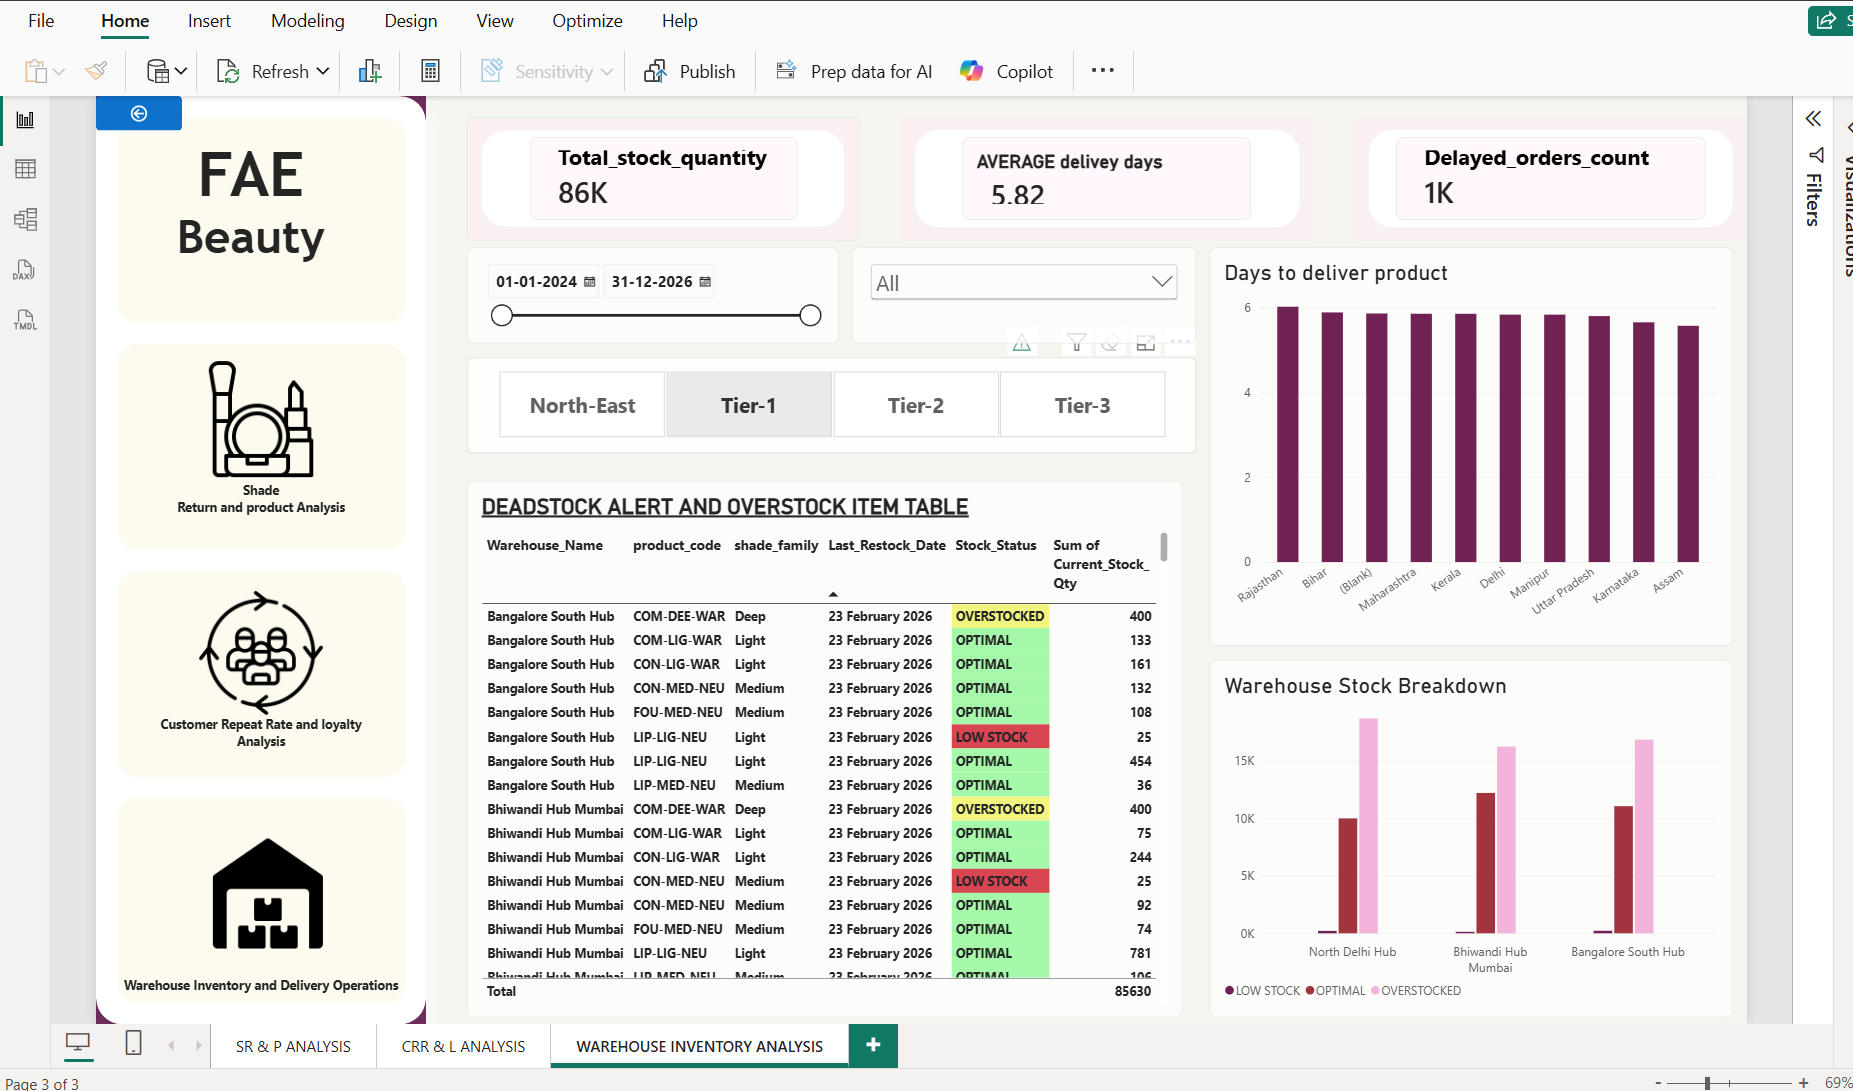

The dashboard page shown, as its layout file describes it:
{"tool":"powerbi","page":{"name":"WAREHOUSE INVENTORY ANALYSIS","canvas":[1920,1080],"ordinal":2},"visuals":[{"type":"group","id":"g1","title":"Group 1","box":[0,0,384,1080],"z":0,"group":"g2"},{"type":"shape","box":[0,0,384,1080],"z":0,"group":"g1"},{"type":"shape","box":[432,24,456,144],"z":0},{"type":"shape","box":[24,24,336,240],"z":1000,"group":"g1"},{"type":"shape","box":[936,24,480,144],"z":1000},{"type":"textbox","box":[48,48,264,192],"z":1000,"group":"g2"},{"type":"shape","box":[1464,24,456,144],"z":2000},{"type":"shape","box":[24,288,336,240],"z":2000,"group":"g1"},{"type":"textbox","box":[48,448,288,48],"z":2000,"group":"g2"},{"type":"group","id":"g2","title":"Group 2","box":[0,0,384,1080],"z":3000},{"type":"shape","box":[24,552,336,240],"z":3000,"group":"g1"},{"type":"textbox","box":[48,720,288,48],"z":3000,"group":"g2"},{"type":"cardVisual","fields":{"Data":["Measure.Total_stock_quantity"]},"box":[504,48,312,96],"z":4000},{"type":"shape","box":[24,816,336,240],"z":4000,"group":"g1"},{"type":"textbox","box":[16,1024,352,32],"z":4000,"group":"g2"},{"type":"cardVisual","title":"AVERAGE delivey days","fields":{"Data":["Avg(fact_sales-order_process.delivery_days_taken)"]},"box":[1008,48,336,96],"z":5000},{"type":"cardVisual","fields":{"Data":["Measure.Delayed_orders_count"]},"box":[1512,48,360,96],"z":6000},{"type":"actionButton","box":[48,560,288,208],"z":7000},{"type":"actionButton","box":[32,288,336,224],"z":8000},{"type":"slicer","fields":{"Values":["dim_date.Date"]},"box":[432,176,432,112],"z":9000},{"type":"clusteredColumnChart","title":"Warehouse Stock Breakdown","fields":{"Category":["dim_warehouse.Warehouse_Name"],"Series":["fact_inventory.Stock_Status"],"Y":["Sum(fact_inventory.Current_Stock_Qty)"]},"box":[1296,656,608,416],"z":10000},{"type":"tableEx","title":"DEADSTOCK ALERT AND OVERSTOCK ITEM TABLE","fields":{"Values":["dim_warehouse.Warehouse_Name","dim_product.product_code","dim_product.shade_family","fact_inventory.Last_Restock_Date","fact_inventory.Stock_Status","Sum(fact_inventory.Current_Stock_Qty)"]},"box":[432,448,832,624],"z":11000},{"type":"actionButton","box":[0,0,100,40],"z":12000},{"type":"slicer","fields":{"Values":["dim_locations.region"]},"box":[432,304,848,112],"z":13000},{"type":"slicer","fields":{"Values":["dim_product.category"]},"box":[880,176,400,112],"z":14000},{"type":"image","box":[96,304,192,144],"z":15000},{"type":"image","box":[96,576,192,144],"z":16000},{"type":"image","box":[112,864,176,128],"z":17000},{"type":"clusteredColumnChart","title":"Days to deliver product","fields":{"Category":["dim_locations.state"],"Y":["Avg(fact_sales-order_process.delivery_days_taken)"]},"box":[1296,176,608,464],"z":18000}]}

Visuals, with their boxes on the page's 1920x1080 design canvas (x1, y1, x2, y2). These are canvas units, not pixel positions in the 1853x1091 screenshot, which may show the page scaled, cropped or inside an application window:
"Group 1" group: box=[0, 0, 384, 1080]
shape: box=[0, 0, 384, 1080]
shape: box=[432, 24, 888, 168]
shape: box=[24, 24, 360, 264]
shape: box=[936, 24, 1416, 168]
textbox: box=[48, 48, 312, 240]
shape: box=[1464, 24, 1920, 168]
shape: box=[24, 288, 360, 528]
textbox: box=[48, 448, 336, 496]
"Group 2" group: box=[0, 0, 384, 1080]
shape: box=[24, 552, 360, 792]
textbox: box=[48, 720, 336, 768]
cardVisual - Measure.Total_stock_quantity: box=[504, 48, 816, 144]
shape: box=[24, 816, 360, 1056]
textbox: box=[16, 1024, 368, 1056]
"AVERAGE delivey days" cardVisual: box=[1008, 48, 1344, 144]
cardVisual - Measure.Delayed_orders_count: box=[1512, 48, 1872, 144]
actionButton: box=[48, 560, 336, 768]
actionButton: box=[32, 288, 368, 512]
slicer - dim_date.Date: box=[432, 176, 864, 288]
"Warehouse Stock Breakdown" clusteredColumnChart: box=[1296, 656, 1904, 1072]
"DEADSTOCK ALERT AND OVERSTOCK ITEM TABLE" tableEx: box=[432, 448, 1264, 1072]
actionButton: box=[0, 0, 100, 40]
slicer - dim_locations.region: box=[432, 304, 1280, 416]
slicer - dim_product.category: box=[880, 176, 1280, 288]
image: box=[96, 304, 288, 448]
image: box=[96, 576, 288, 720]
image: box=[112, 864, 288, 992]
"Days to deliver product" clusteredColumnChart: box=[1296, 176, 1904, 640]
